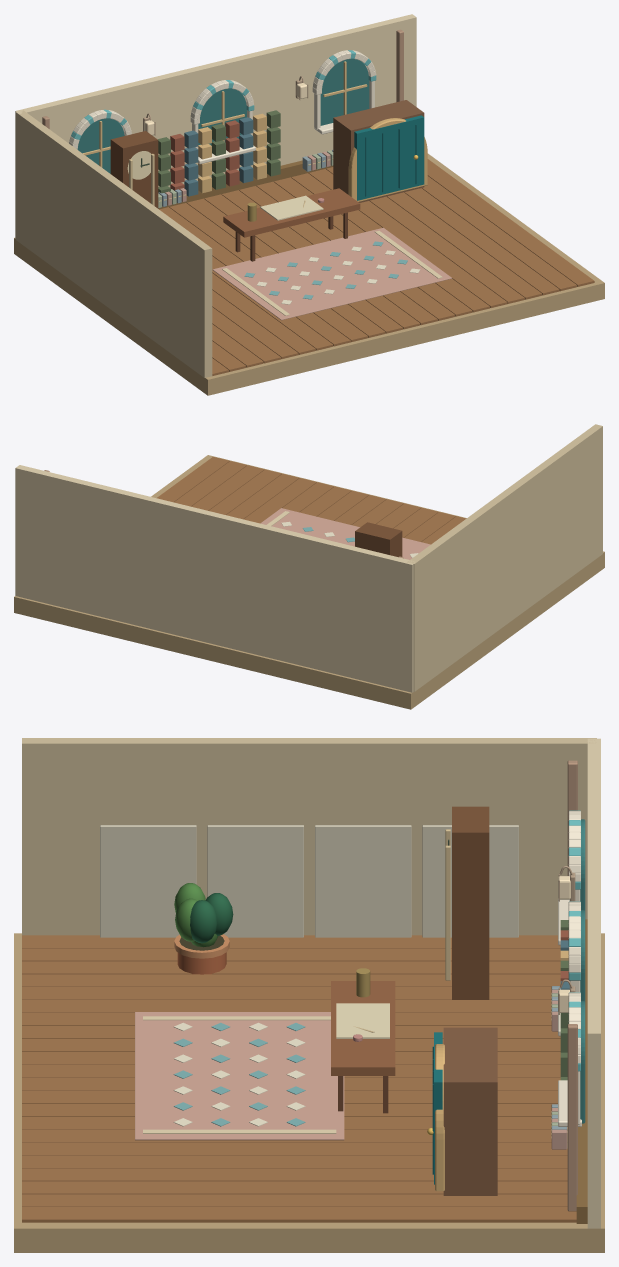
The model's file is archive.glb.
The picture shows the model from 3 angles, top to bottom: view 1: azimuth 30°, elevation 25°; view 2: azimuth 150°, elevation 25°; view 3: azimuth 270°, elevation 25°; orthographic projection. The views are drawn at different scales.
Visible parts, largest first — view 1: Art_Material_12, Art_Material_14, Art_Material_13, Art_Material_11, Art_Rug terracotta, Door_cabinet, Art_Material_20, Art_Arch limestone, Art_Material_23, Art_Material_17, Art_Material_2, Art_Material_21 (+14 smaller); view 2: Art_Material_13, Art_Material_14, Art_Material_12, Art_Material_11, Art_Rug terracotta, Art_Material_21; view 3: Art_Material_12, Art_Material_14, Art_Muted wall panels, Art_Rug terracotta, Art_Material_11, Art_Material_20, Art_Material_21, Art_Material_13, Art_Material_17, Art_Cabinet walnut, Art_Arch limestone, Art_Rug gold (+13 smaller).
Part boxes in pixels (x1,y1,x2,y2): Art_Material_12: (159, 159, 594, 375); Art_Material_14: (16, 110, 212, 377); Art_Material_13: (15, 14, 416, 238); Art_Material_11: (14, 153, 604, 395); Art_Rug terracotta: (212, 227, 452, 320); Door_cabinet: (354, 115, 424, 200); Art_Material_20: (333, 100, 424, 202); Art_Arch limestone: (69, 50, 376, 149); Art_Material_23: (158, 110, 280, 193); Art_Material_17: (223, 188, 360, 237); Art_Material_2: (320, 59, 369, 125); Art_Material_21: (110, 131, 158, 208); Art_Material_13: (15, 465, 414, 692); Art_Material_14: (407, 424, 602, 691); Art_Material_12: (156, 456, 466, 544); Art_Material_11: (14, 455, 604, 709); Art_Rug terracotta: (260, 508, 430, 559); Art_Material_21: (355, 522, 402, 556); Art_Material_12: (22, 935, 576, 1222); Art_Material_14: (22, 738, 596, 935); Art_Muted wall panels: (100, 825, 518, 937); Art_Rug terracotta: (135, 1012, 344, 1140); Art_Material_11: (14, 933, 604, 1252); Art_Material_20: (443, 1027, 497, 1195); Art_Material_21: (452, 806, 489, 999); Art_Material_13: (587, 738, 600, 1228); Art_Material_17: (331, 981, 395, 1075); Art_Cabinet walnut: (567, 760, 577, 1211); Art_Arch limestone: (568, 811, 580, 1124); Art_Rug gold: (143, 1016, 336, 1133).
Size of the model in its own units: 13.03 by 4.5 by 11.
